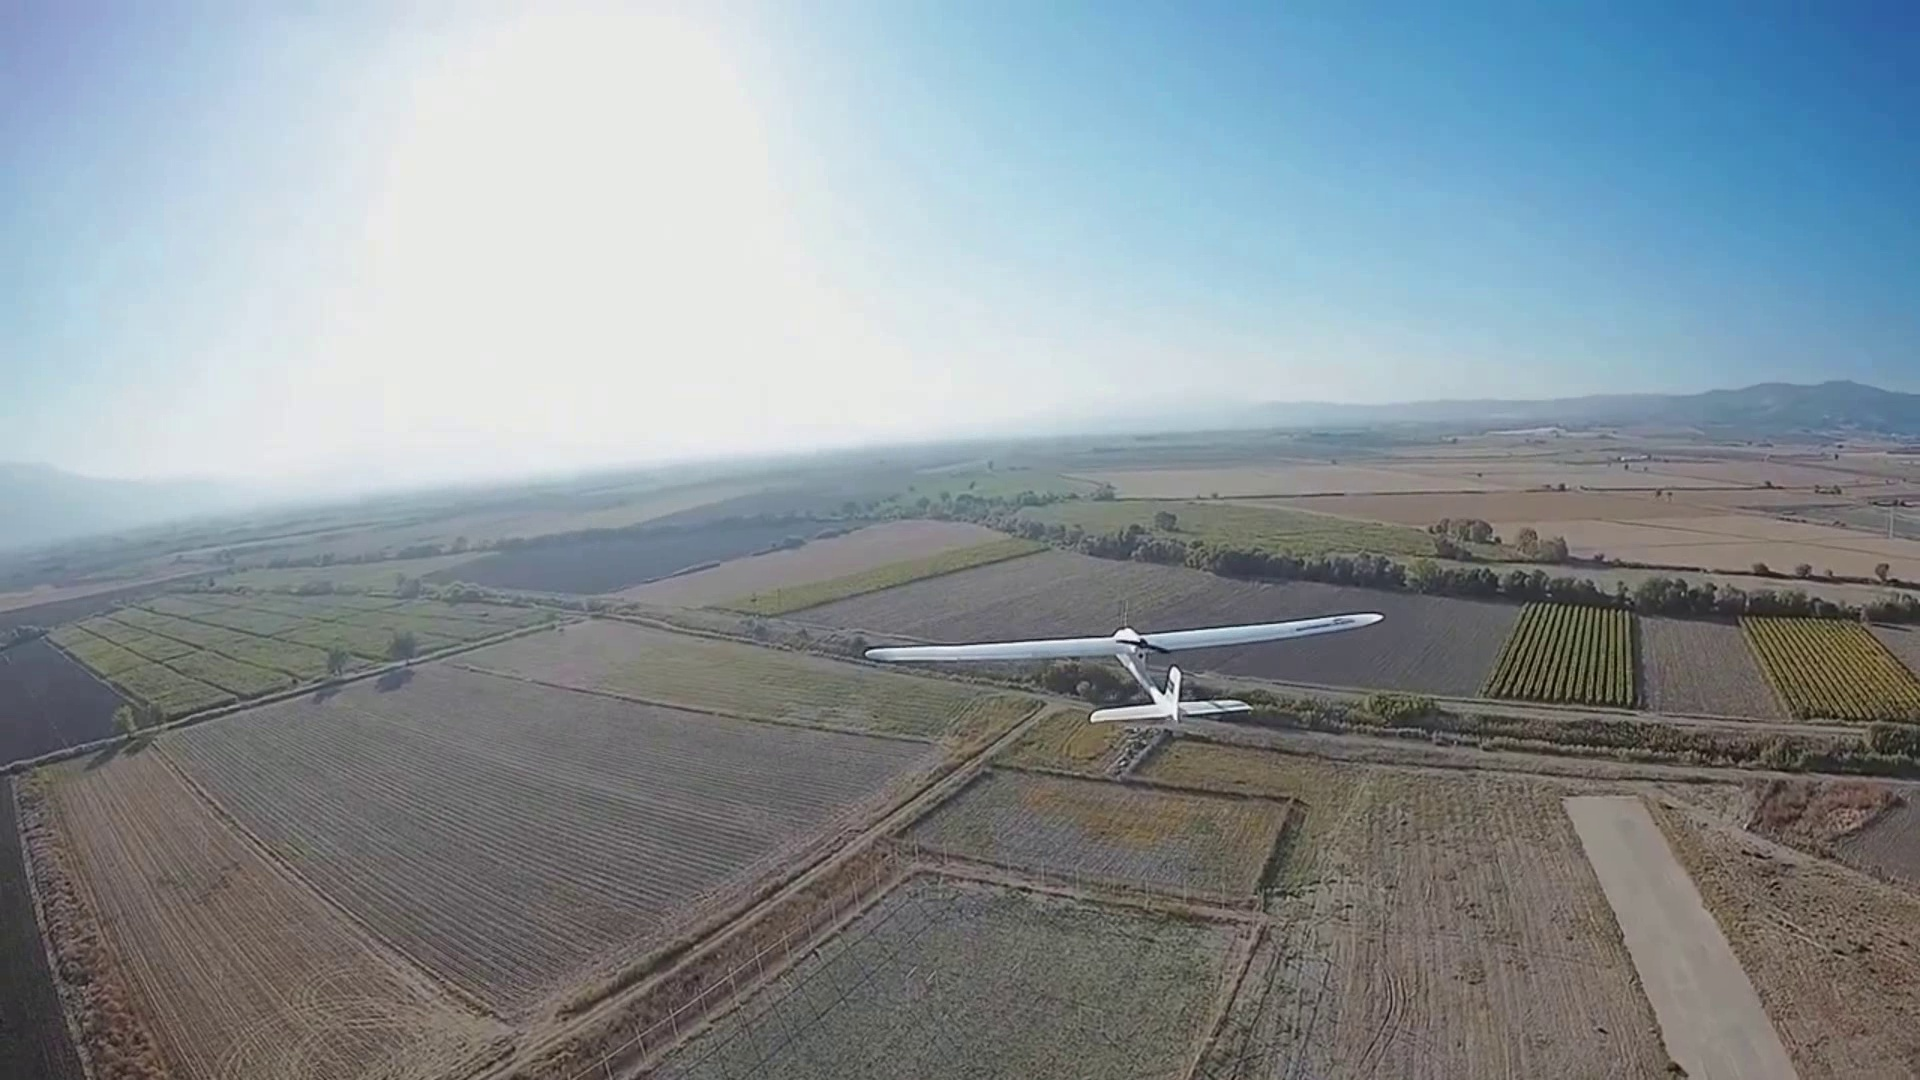airplane: (857, 607, 1385, 721)
